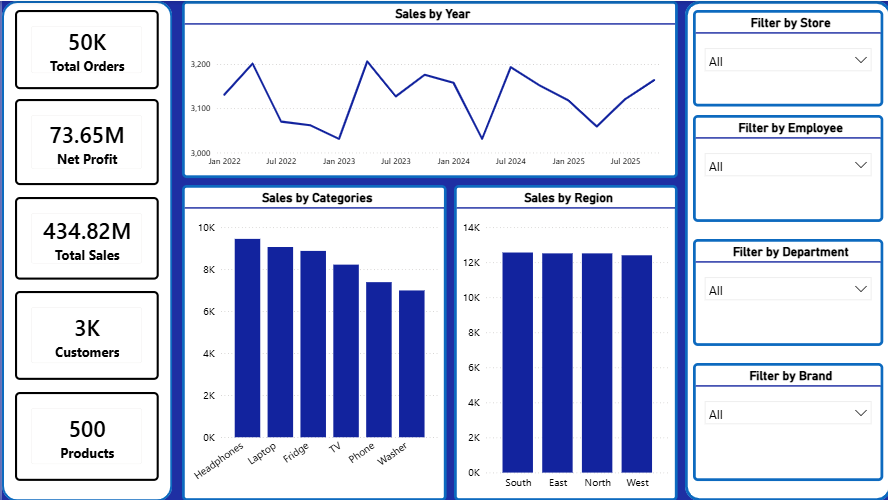

Layout of this report page (visuals, bound fields, positions):
{"tool":"powerbi","page":{"name":"Sales","canvas":[1280,720],"ordinal":1},"visuals":[{"type":"shape","box":[0,0,245.2,720.6],"z":0},{"type":"cardVisual","fields":{"Data":["CountNonNull(Gold Fact_Sales.SalesKey)"]},"box":[18.5,13.4,206.6,114.2],"z":1000},{"type":"cardVisual","fields":{"Data":["Sum(Gold Fact_Sales.Net Profit)"]},"box":[18.5,141.1,206.6,124.3],"z":2000},{"type":"cardVisual","fields":{"Data":["Sum(Gold Fact_Sales.TotalAmount)"]},"box":[18.5,282.2,206.6,119.3],"z":3000},{"type":"cardVisual","fields":{"Data":["CountNonNull(Gold Dim_Customer.CustomerID)"]},"box":[18.5,418.3,206.6,127.7],"z":4000},{"type":"cardVisual","fields":{"Data":["CountNonNull(Gold Dim_Product.ProductID)"]},"box":[18.5,562.7,206.6,127.7],"z":5000},{"type":"lineChart","title":"Sales by Year","fields":{"Y":["CountNonNull(Gold Fact_Sales.SalesKey)"],"Category":["Gold Dim_Date.FullDate.Variation.Date Hierarchy.Year","Gold Dim_Date.FullDate.Variation.Date Hierarchy.Quarter"]},"box":[258.7,0,713.9,255.3],"z":6000},{"type":"clusteredColumnChart","title":"Sales by Categories","fields":{"Y":["CountNonNull(Gold Fact_Sales.SalesKey)"],"Category":["Gold Dim_Product.Category"]},"box":[258.7,265.4,381.3,455.2],"z":7000},{"type":"clusteredColumnChart","title":"Sales by Region","fields":{"Category":["Gold Dim_Store.Region"],"Y":["CountNonNull(Gold Fact_Sales.SalesKey)"]},"box":[651.2,264.9,322,455.1],"z":8000},{"type":"shape","box":[983.4,0,297.1,720],"z":9000},{"type":"slicer","title":"Filter by Store","fields":{"Values":["Gold Dim_Store.Store"]},"box":[995.1,13.2,273.7,139],"z":10000},{"type":"slicer","title":"Filter by Employee","fields":{"Values":["Gold Dim_Employee.EmployeeName"]},"box":[995.1,163.9,273.7,153.7],"z":11000},{"type":"slicer","title":"Filter by Department","fields":{"Values":["Gold Dim_Employee.Department"]},"box":[995.1,342.4,273.7,153.7],"z":12000},{"type":"slicer","title":"Filter by Brand","fields":{"Values":["Gold Dim_Product.Brand"]},"box":[995.1,521,273.7,169.8],"z":13000}]}

Visuals, with their boxes in screenshot pixels (x1, y1, x2, y2), scaled from the page's 1280x720 canvas onto the 888x500 screenshot:
shape: Rect(0, 0, 170, 499)
cardVisual - CountNonNull(Gold Fact_Sales.SalesKey): Rect(13, 9, 156, 89)
cardVisual - Sum(Gold Fact_Sales.Net Profit): Rect(13, 98, 156, 184)
cardVisual - Sum(Gold Fact_Sales.TotalAmount): Rect(13, 196, 156, 279)
cardVisual - CountNonNull(Gold Dim_Customer.CustomerID): Rect(13, 290, 156, 379)
cardVisual - CountNonNull(Gold Dim_Product.ProductID): Rect(13, 391, 156, 479)
"Sales by Year" lineChart: Rect(179, 0, 675, 177)
"Sales by Categories" clusteredColumnChart: Rect(179, 184, 444, 499)
"Sales by Region" clusteredColumnChart: Rect(452, 184, 675, 499)
shape: Rect(682, 0, 887, 499)
"Filter by Store" slicer: Rect(690, 9, 880, 106)
"Filter by Employee" slicer: Rect(690, 114, 880, 221)
"Filter by Department" slicer: Rect(690, 238, 880, 345)
"Filter by Brand" slicer: Rect(690, 362, 880, 480)
